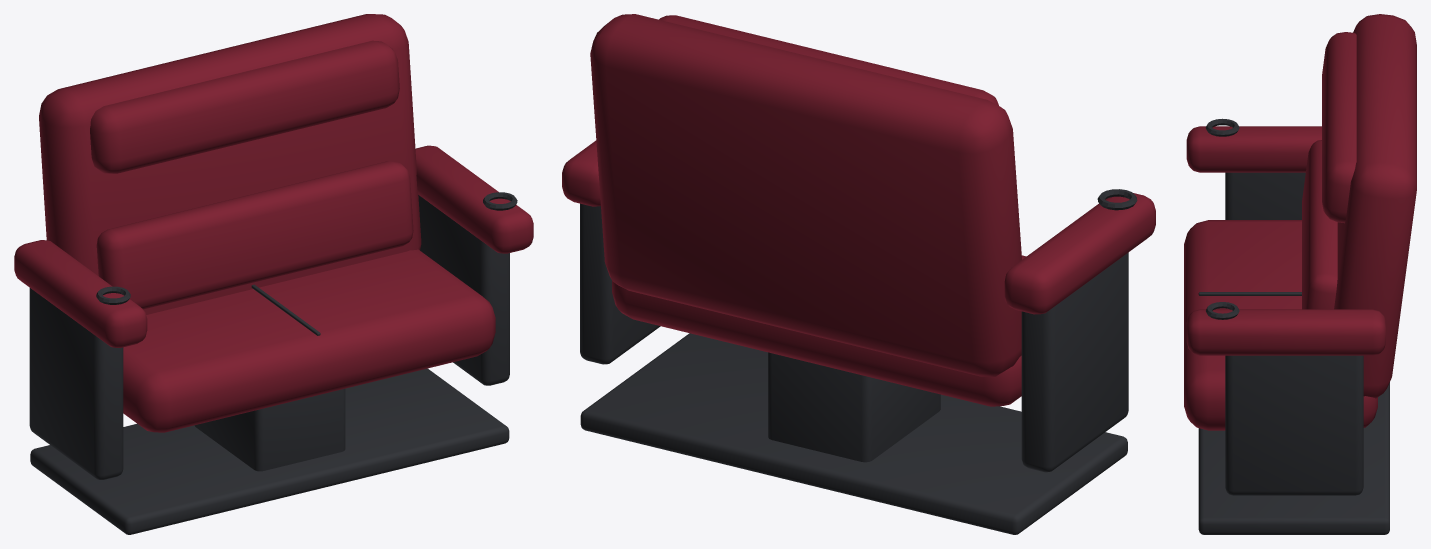
Rendered from couple.glb.
The picture shows the model from 3 angles, left to right: view 1: azimuth 30°, elevation 25°; view 2: azimuth 150°, elevation 25°; view 3: azimuth 270°, elevation 25°; orthographic projection. The views are drawn at different scales.
Visible parts, largest first — view 1: Seat cushion, Contoured back, Floor plate, Lumbar cushion, Head cushion, Arm support, Metal pedestal, Arm support.001, Padded armrest, Padded armrest.001; view 2: Contoured back, Floor plate, Arm support, Metal pedestal, Seat cushion, Padded armrest, Arm support.001, Head cushion, Padded armrest.001; view 3: Contoured back, Arm support.001, Seat cushion, Floor plate, Padded armrest.001, Head cushion, Padded armrest, Lumbar cushion, Arm support, Cup holder, Cup holder.001, Center cushion seam.
Boxes of the visible parts, x1,y1,x2,y2 form: Seat cushion: (123,249,495,432); Contoured back: (39,14,421,314); Floor plate: (30,368,509,534); Lumbar cushion: (96,161,413,309); Head cushion: (90,40,399,173); Arm support: (29,288,123,479); Metal pedestal: (194,388,345,471); Arm support.001: (418,195,509,385); Padded armrest: (14,240,147,347); Padded armrest.001: (415,145,533,253); Contoured back: (590,14,1021,376); Floor plate: (580,333,1127,534); Arm support: (1021,252,1128,472); Metal pedestal: (768,352,940,462); Seat cushion: (612,255,1026,406); Padded armrest: (1004,193,1155,314); Arm support.001: (580,203,660,364); Head cushion: (659,15,998,105); Padded armrest.001: (562,140,600,206); Contoured back: (1334,14,1416,398); Arm support.001: (1225,355,1363,495); Seat cushion: (1184,220,1377,430); Floor plate: (1198,382,1389,534); Padded armrest.001: (1186,309,1385,355); Head cushion: (1322,32,1356,223); Padded armrest: (1186,126,1321,172); Lumbar cushion: (1302,140,1337,309); Arm support: (1225,172,1305,219); Cup holder: (1205,118,1239,136); Cup holder.001: (1206,302,1239,319); Center cushion seam: (1198,292,1301,295).
Bounding box in the file's own units: 1.8 × 1.48 × 0.8758.
